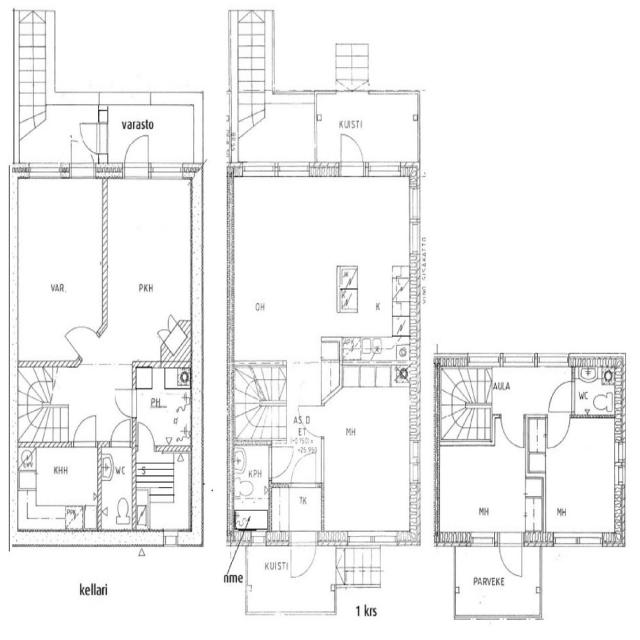door: (132, 376, 191, 455), (60, 322, 99, 372), (287, 532, 318, 582), (122, 132, 153, 180), (336, 129, 366, 178), (496, 411, 528, 454), (288, 448, 320, 490), (497, 535, 525, 582), (70, 410, 101, 451), (67, 134, 94, 181), (544, 410, 572, 453), (76, 118, 106, 158), (547, 378, 574, 416), (268, 442, 292, 482), (300, 403, 322, 441), (110, 414, 132, 449), (112, 388, 136, 420), (135, 419, 157, 449)
window: (232, 159, 314, 184), (550, 531, 608, 555), (366, 157, 408, 182), (25, 158, 68, 182), (612, 438, 630, 494), (406, 182, 426, 231), (150, 159, 190, 183), (499, 349, 539, 371), (463, 531, 499, 552), (158, 526, 184, 550)
zone: (231, 173, 416, 353), (319, 362, 420, 548), (102, 171, 196, 368), (10, 172, 106, 356), (544, 412, 622, 546), (433, 446, 531, 544), (13, 444, 101, 536), (271, 0, 341, 101), (133, 455, 197, 536), (133, 374, 192, 456), (230, 441, 271, 532), (98, 445, 138, 534), (571, 353, 621, 418), (233, 158, 314, 184)
